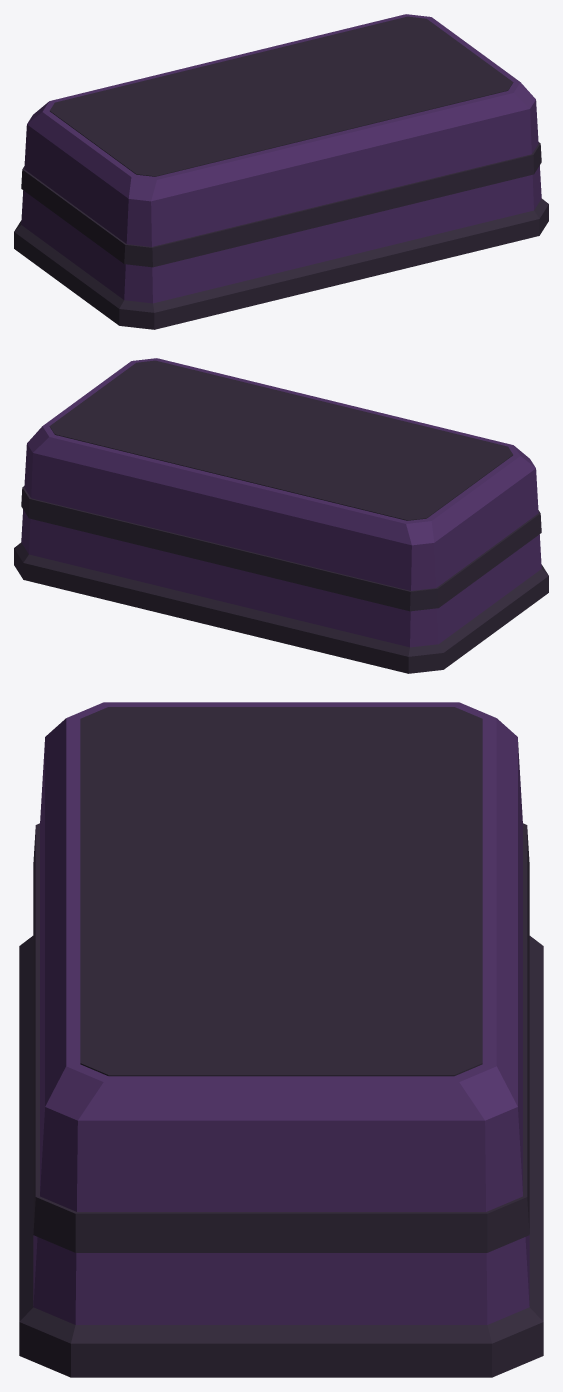
The model's file is SM_SB_Kit_AlienPlinth_400x200x130.fbx.
The picture shows the model from 3 angles, top to bottom: view 1: azimuth 30°, elevation 25°; view 2: azimuth 150°, elevation 25°; view 3: azimuth 270°, elevation 25°; orthographic projection. The views are drawn at different scales.
Parts seen in each view (by area): view 1: SM_SB_Kit_AlienPlinth_400x200x130; view 2: SM_SB_Kit_AlienPlinth_400x200x130; view 3: SM_SB_Kit_AlienPlinth_400x200x130.
Part boxes in pixels (bbox=[...]): SM_SB_Kit_AlienPlinth_400x200x130: bbox=[14, 14, 548, 329]; SM_SB_Kit_AlienPlinth_400x200x130: bbox=[14, 358, 548, 673]; SM_SB_Kit_AlienPlinth_400x200x130: bbox=[19, 702, 543, 1377].
Size of the model in its own units: 424 by 224 by 131.
